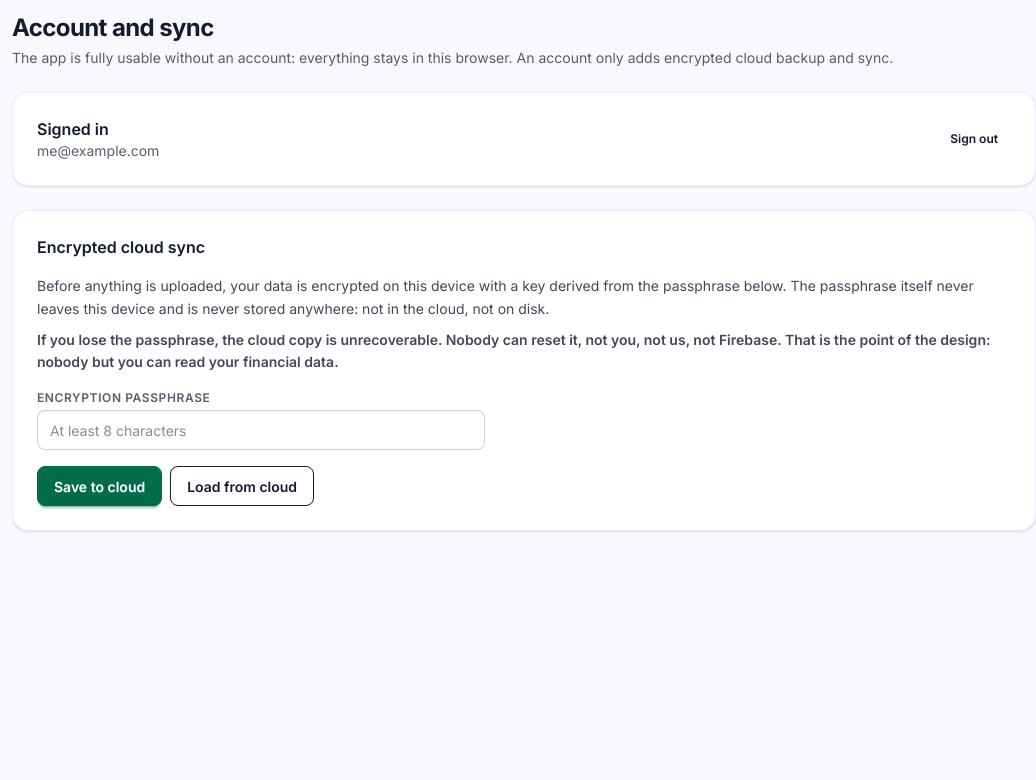
Test: AccountPage › saves encrypted data to the cloud when signed in
The width and height of the screenshot is (1036, 780).
Expected: the text "unrecoverable" is shown, [37,330,990,370]
Type "correct horse battery" into the password field labelled "Encryption passphrase".
click(261, 430); type("correct horse battery")  # box [37,410,485,450]
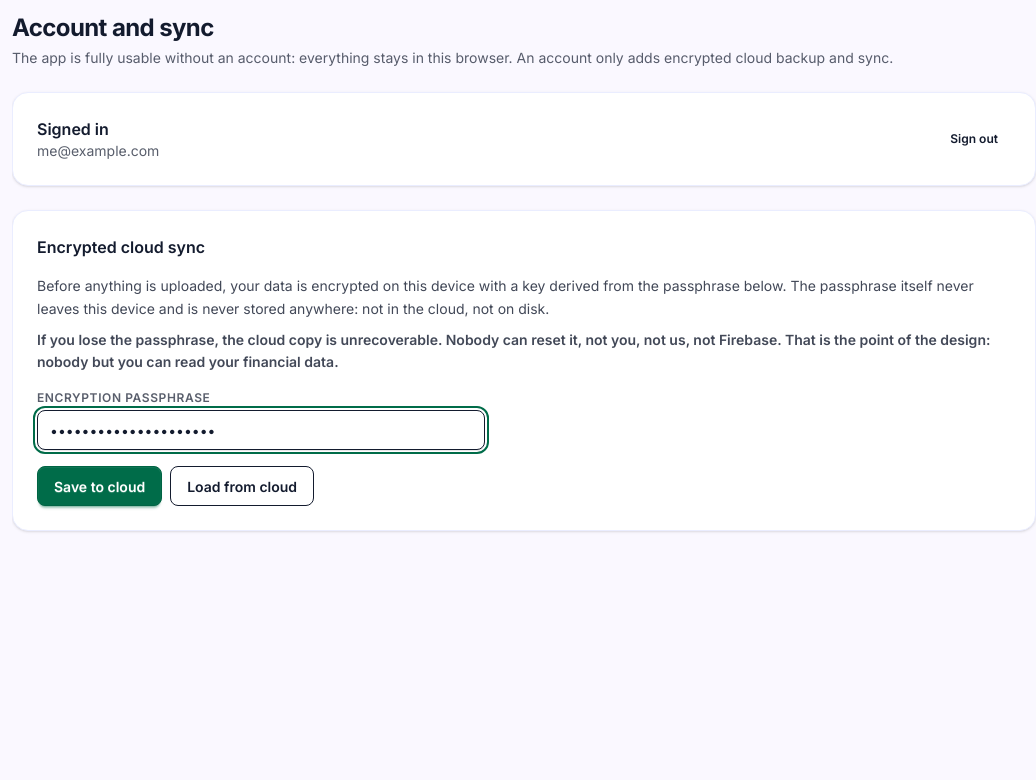
Click the button "Save to cloud".
click(100, 486)  # box [37,466,162,506]
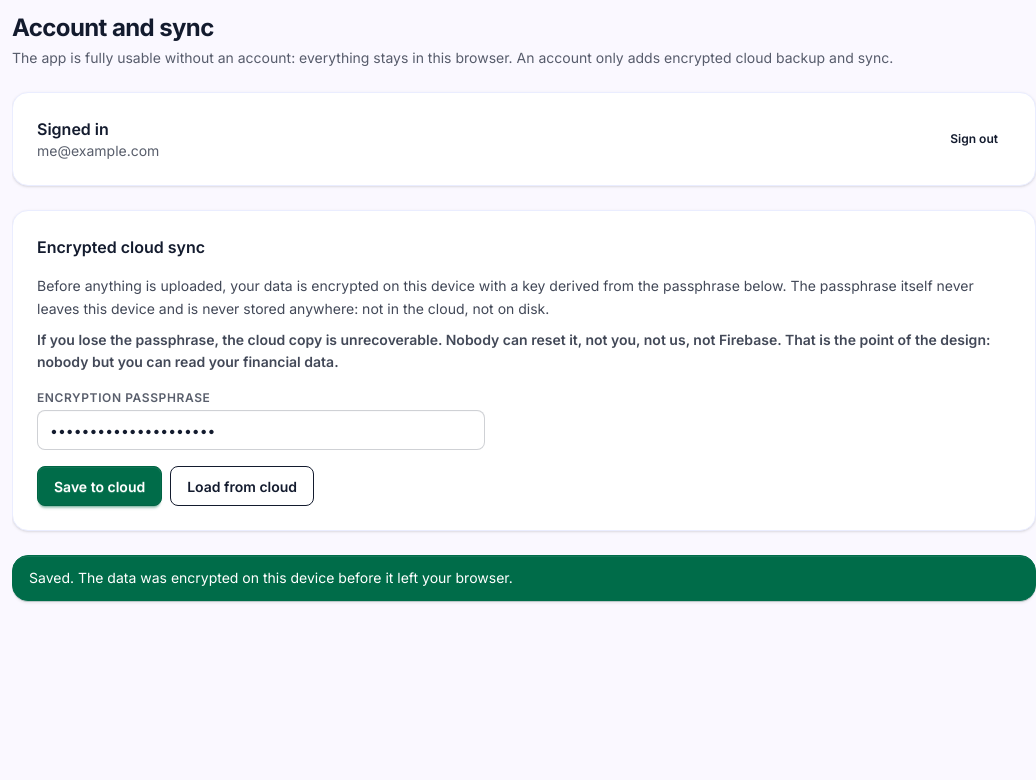
Now the message shows "encrypted", box [29,569,513,586]
